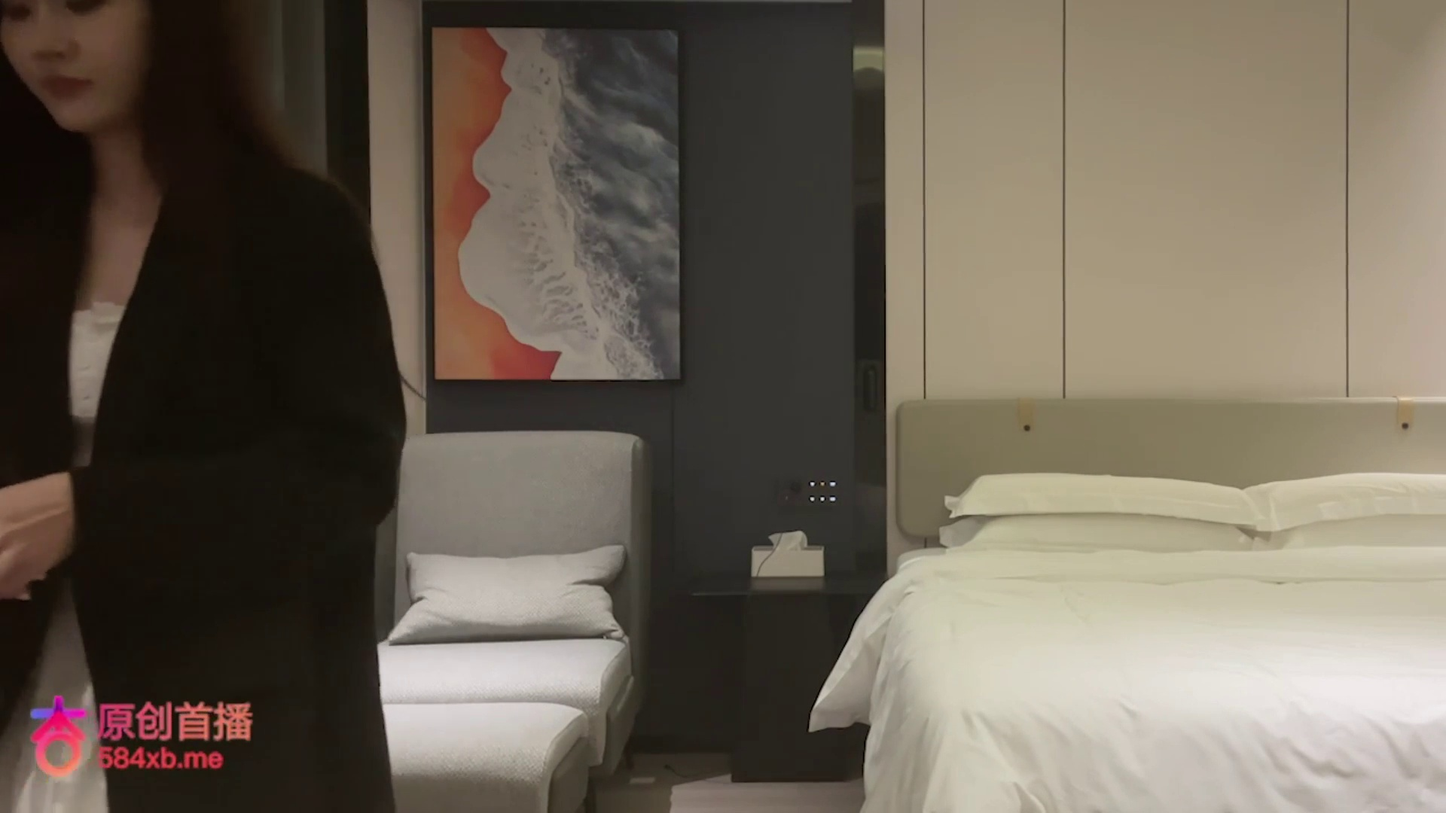stand: (1, 2, 408, 802)
